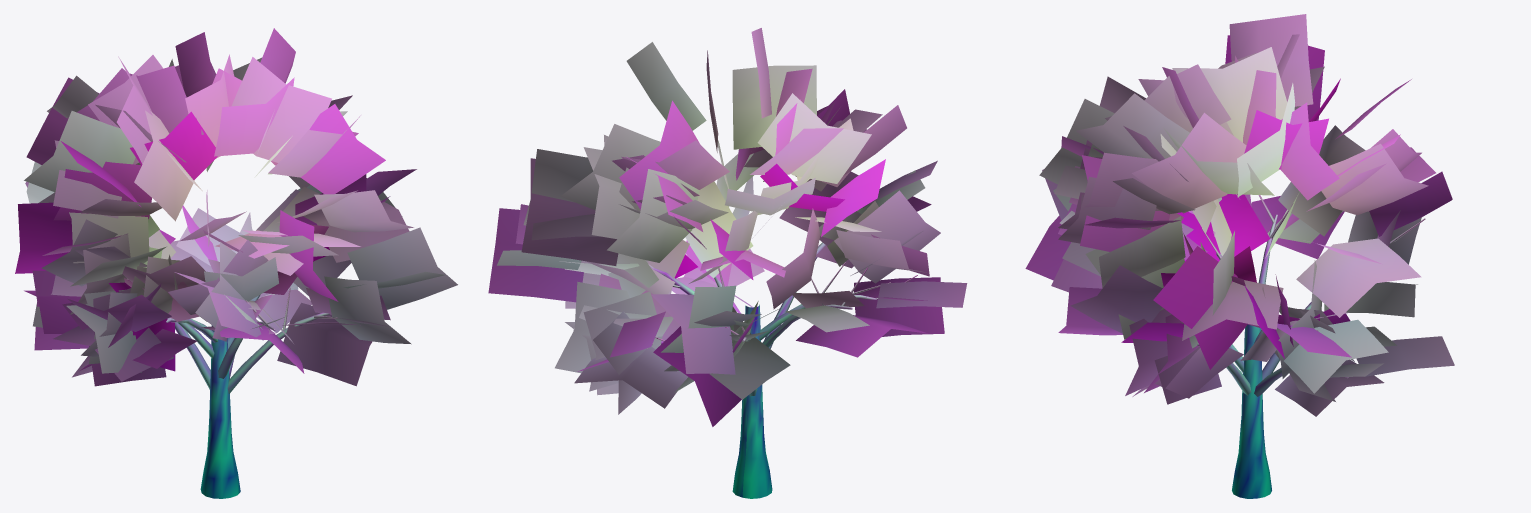
The model's file is laubbaum.glb.
The picture shows the model from 3 angles, left to right: view 1: azimuth 30°, elevation 25°; view 2: azimuth 150°, elevation 25°; view 3: azimuth 270°, elevation 25°; orthographic projection.
Parts seen in each view (by area): view 1: laubbaum_lod0; view 2: laubbaum_lod0; view 3: laubbaum_lod0.
Boxes of the visible parts, x1,y1,x2,y2 form: laubbaum_lod0: (15, 28, 457, 498); laubbaum_lod0: (488, 28, 967, 498); laubbaum_lod0: (1025, 14, 1454, 498).
Size of what is drawn, in the model's own units: 11.84 by 11.96 by 11.89.
